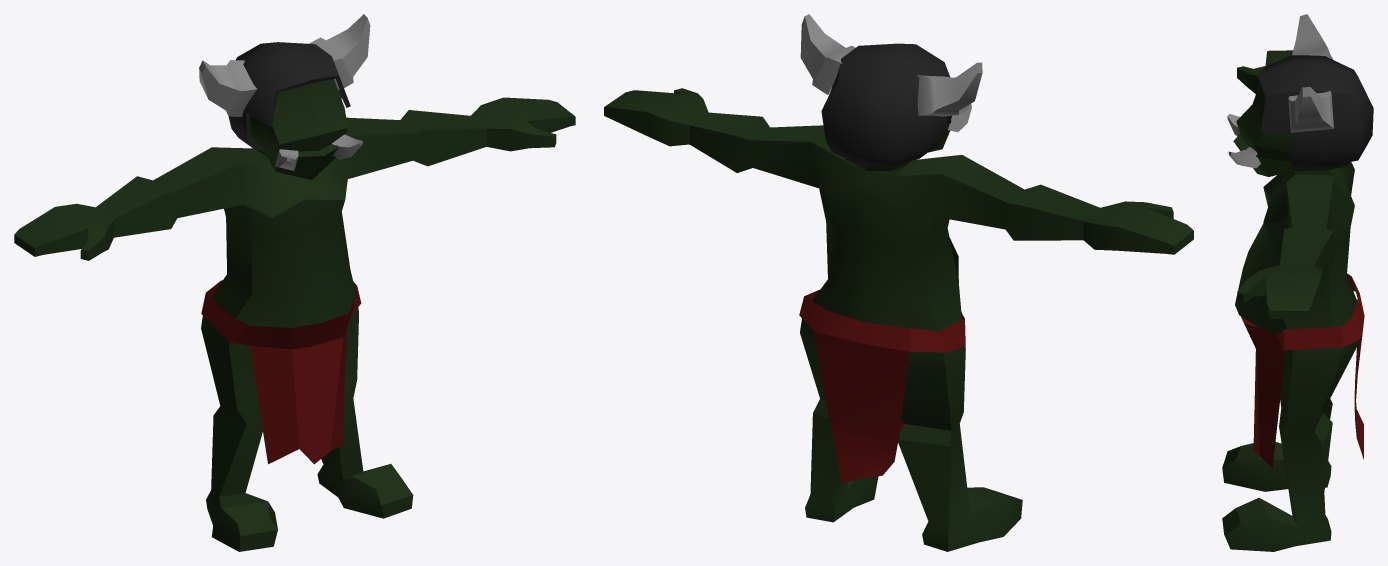
The model's file is SM_Orc.FBX.
The picture shows the model from 3 angles, left to right: view 1: azimuth 30°, elevation 25°; view 2: azimuth 150°, elevation 25°; view 3: azimuth 270°, elevation 25°; orthographic projection. The views are drawn at different scales.
Parts seen in each view (by area): view 1: Orc; view 2: Orc; view 3: Orc.
Boxes of the visible parts, x1,y1,x2,y2 form: Orc: (14, 14, 575, 551); Orc: (604, 14, 1193, 551); Orc: (1222, 14, 1373, 551).
Bounding box in the file's own units: 305 × 252 × 74.96.
